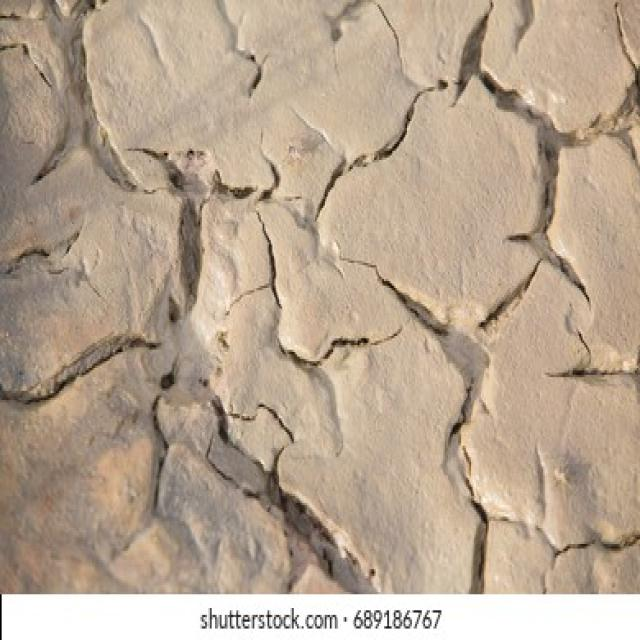Clay Soil: (6, 39, 626, 545)
